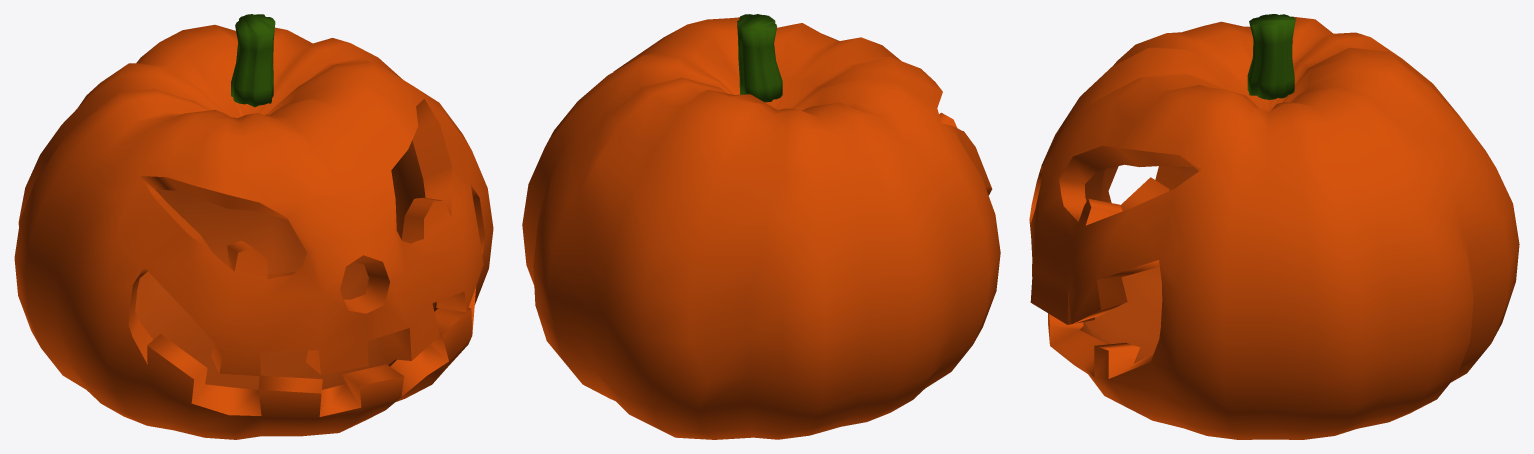
File: Jack-o’-lantern_2_Tall.fbx
The picture shows the model from 3 angles, left to right: view 1: azimuth 30°, elevation 25°; view 2: azimuth 150°, elevation 25°; view 3: azimuth 270°, elevation 25°; orthographic projection. The views are drawn at different scales.
Parts seen in each view (by area): view 1: Jack-o’-lantern 2 Tall; view 2: Jack-o’-lantern 2 Tall; view 3: Jack-o’-lantern 2 Tall.
Boxes of the visible parts, x1,y1,x2,y2 form: Jack-o’-lantern 2 Tall: [14, 14, 493, 439]; Jack-o’-lantern 2 Tall: [522, 14, 1000, 439]; Jack-o’-lantern 2 Tall: [1029, 14, 1519, 439].
Bounding box in the file's own units: 144 × 124 × 146.
